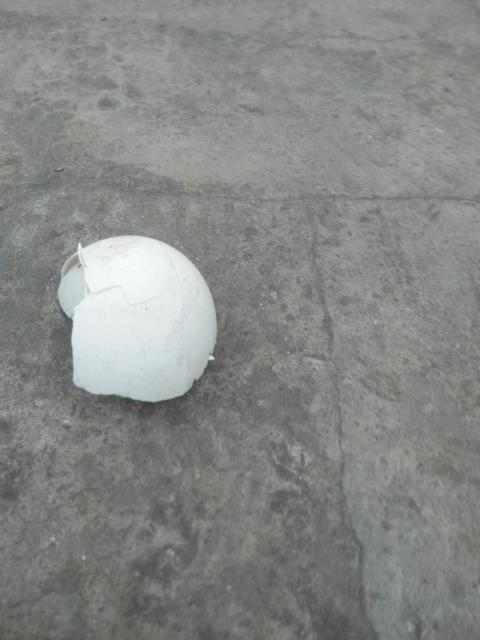Roto: (56, 234, 218, 403)
